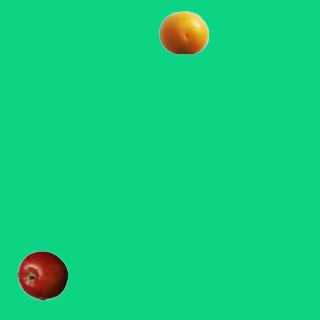Apple Braeburn: (17, 250, 67, 300)
Cherry Wax Yellow: (158, 7, 208, 57)
